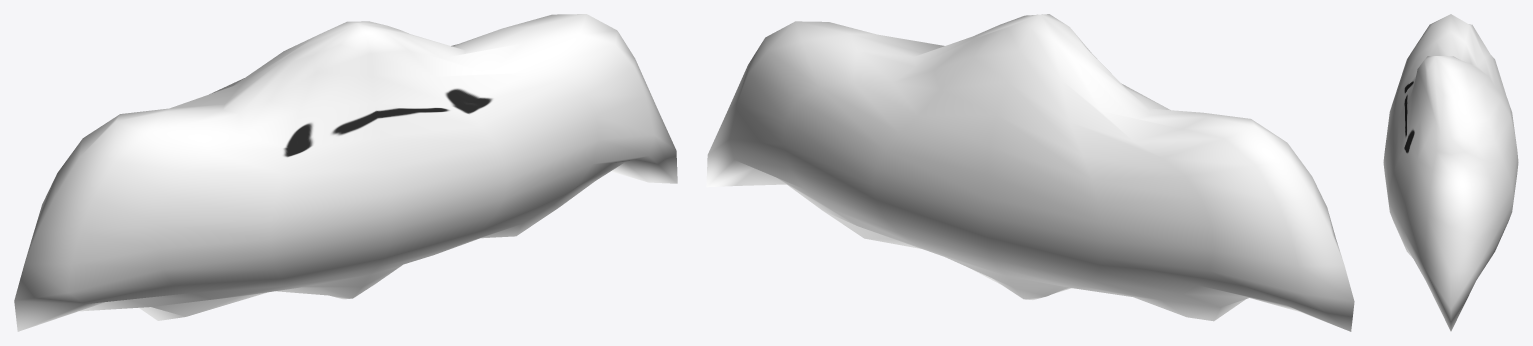
Rendered from animal2.fbx.
3 views of the same model, side by side, from view 1: azimuth 30°, elevation 25°; view 2: azimuth 150°, elevation 25°; view 3: azimuth 270°, elevation 25° (orthographic). The views are drawn at different scales.
Parts seen in each view (by area): view 1: 5; view 2: 5; view 3: 5.
Part boxes in pixels (left/top/right/bottom): 5: left=14, top=14, right=677, bottom=331; 5: left=706, top=14, right=1354, bottom=331; 5: left=1383, top=14, right=1518, bottom=331.
Size of the model in its own units: 7.62 by 3.11 by 2.
